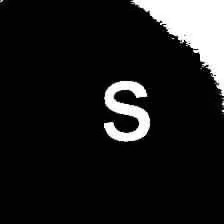LTR_S: (102, 75, 154, 144)
